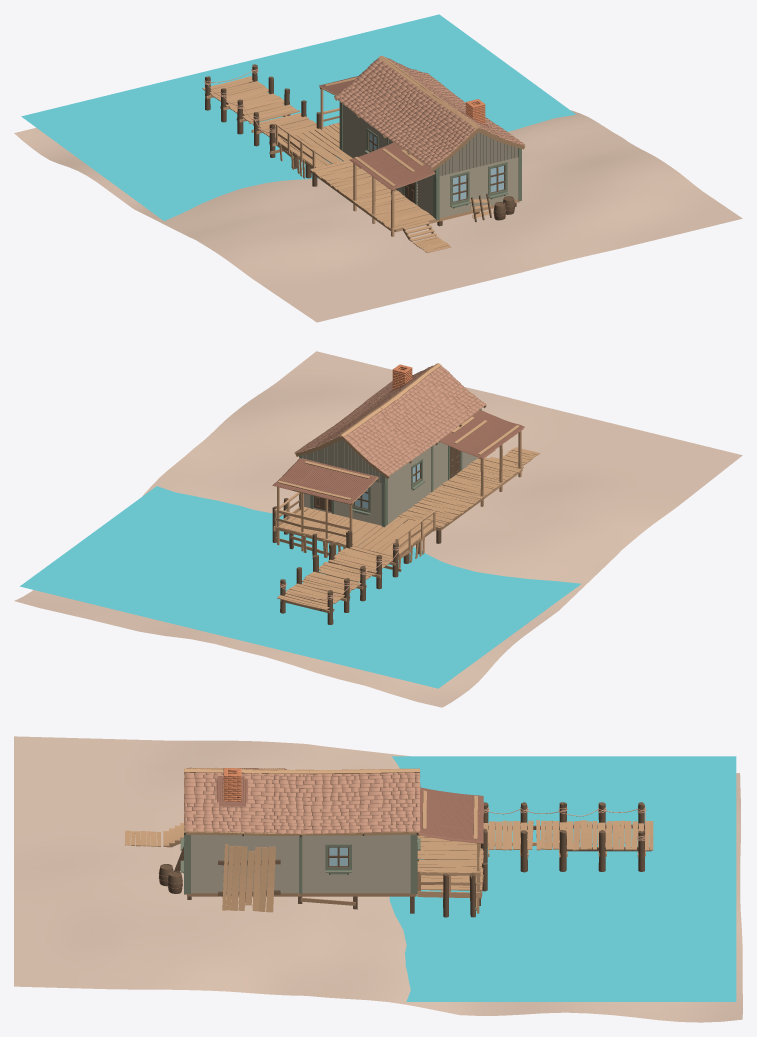
File: lake_shack_rdr2.fbx
3 views of the same model, one above another, from view 1: azimuth 30°, elevation 25°; view 2: azimuth 150°, elevation 25°; view 3: azimuth 270°, elevation 25° (orthographic). The views are drawn at different scales.
Visible parts, largest first — view 1: Plane.004, Plane.011, Plane.420, Cube.160, Cube.235, Plane.000, Cube.161, Cube.163, Cylinder.017, Cylinder.021, Cube.002; view 2: Plane.004, Plane.011, Plane.420, Cube.161, Plane.000, Cube.239, Cube.156, Cube.163, Cylinder.022, Cylinder.026, Cylinder.021; view 3: Plane.004, Plane.011, Plane.000, Cube.154, Cube.152, Cylinder.026, Cube.343, Cylinder.022, Cylinder.024, Cube.411, Cube.390, Cube.395.
Boxes of the visible parts, x1=… form: Plane.004: x1=14, y1=110, x2=742, y2=322; Plane.011: x1=21, y1=14, x2=575, y2=220; Plane.420: x1=334, y1=58, x2=476, y2=167; Cube.160: x1=439, y1=157, x2=518, y2=218; Cube.235: x1=439, y1=132, x2=518, y2=175; Plane.000: x1=385, y1=57, x2=525, y2=144; Cube.161: x1=341, y1=104, x2=386, y2=158; Cube.163: x1=389, y1=139, x2=433, y2=216; Cylinder.017: x1=376, y1=161, x2=431, y2=188; Cylinder.021: x1=349, y1=142, x2=404, y2=168; Cube.002: x1=353, y1=163, x2=394, y2=236; Plane.004: x1=14, y1=351, x2=742, y2=707; Plane.011: x1=20, y1=486, x2=581, y2=688; Plane.420: x1=343, y1=366, x2=486, y2=475; Cube.161: x1=385, y1=447, x2=431, y2=526; Plane.000: x1=294, y1=365, x2=433, y2=453; Cube.239: x1=303, y1=440, x2=381, y2=482; Cube.156: x1=304, y1=482, x2=381, y2=525; Cube.163: x1=433, y1=441, x2=477, y2=490; Cylinder.022: x1=320, y1=469, x2=367, y2=501; Cylinder.026: x1=272, y1=458, x2=318, y2=490; Cylinder.021: x1=439, y1=432, x2=495, y2=458; Plane.004: x1=14, y1=736, x2=742, y2=1022; Plane.011: x1=389, y1=756, x2=736, y2=1001; Plane.000: x1=184, y1=772, x2=420, y2=833; Cube.154: x1=302, y1=833, x2=410, y2=893; Cube.152: x1=191, y1=833, x2=298, y2=893; Cylinder.026: x1=419, y1=821, x2=483, y2=843; Cube.343: x1=184, y1=771, x2=419, y2=834; Cylinder.022: x1=420, y1=793, x2=483, y2=814; Cylinder.024: x1=420, y1=811, x2=483, y2=830; Cube.411: x1=223, y1=768, x2=241, y2=801; Cube.390: x1=266, y1=846, x2=275, y2=912; Cube.395: x1=230, y1=845, x2=241, y2=910.
Size of the model in its own units: 1561 by 436 by 1909.
